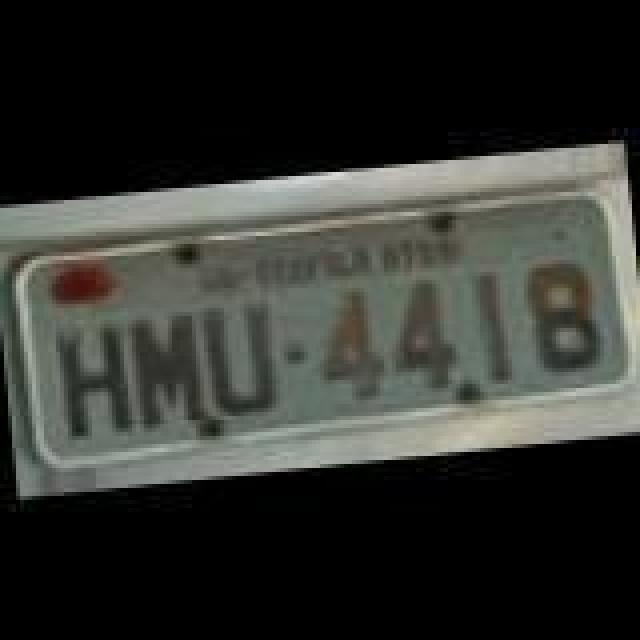1: (464, 262, 520, 378)
4: (308, 280, 396, 400), (384, 272, 464, 400)
8: (514, 250, 606, 374)
H: (54, 316, 138, 444)
M: (122, 304, 206, 432)
U: (194, 298, 286, 422)
